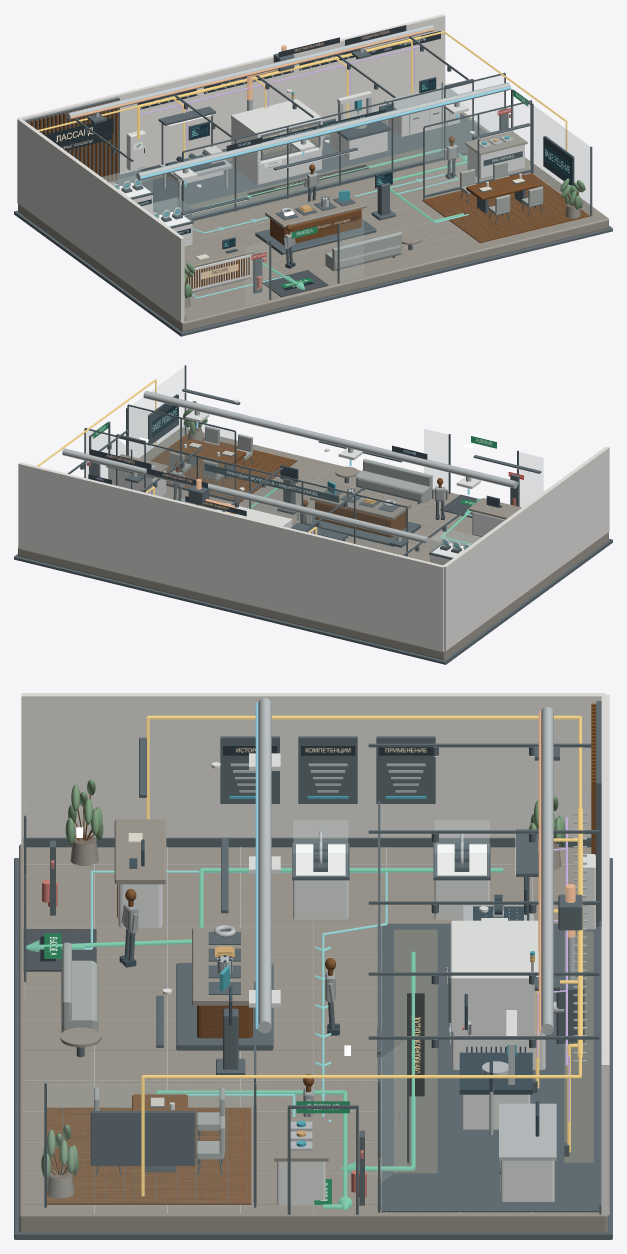
File: lassard-showroom-engineering.glb
3 renders of one model, top to bottom at view 1: azimuth 30°, elevation 25°; view 2: azimuth 150°, elevation 25°; view 3: azimuth 270°, elevation 25°, orthographic. The views are drawn at different scales.
Parts seen in each view (by area): view 1: Architecture, Floor_18x12m, Meeting_room, Ventilation, Optics_and_samples, Reception, Enclosed_laser_cell, Power_and_data, Equipment, Optical_display (×2), Sample_inspection, Assembly_station (+7 smaller); view 2: Architecture, Floor_18x12m, Meeting_room, Ventilation, Optics_and_samples, Reception, Lighting, Optical_display, Power_and_data, Safety_equipment, Reception_desk, Enclosed_laser_cell (+2 smaller); view 3: Architecture, Floor_18x12m, Meeting_room, Optics_and_samples, Ventilation, Enclosed_laser_cell, Maintenance_clearance, Reception, Optical_display (×2), Power_and_data, Lighting, Equipment (+9 smaller).
Boxes of the visible parts, left/top/right/bottom form: Architecture: left=14, top=14, right=612, bottom=336; Floor_18x12m: left=18, top=112, right=608, bottom=331; Meeting_room: left=422, top=100, right=592, bottom=243; Ventilation: left=67, top=24, right=511, bottom=186; Optics_and_samples: left=255, top=131, right=527, bottom=254; Reception: left=184, top=178, right=585, bottom=308; Enclosed_laser_cell: left=231, top=92, right=335, bottom=185; Power_and_data: left=37, top=31, right=567, bottom=170; Equipment: left=137, top=31, right=459, bottom=136; Optical_display (×2): left=102, top=168, right=193, bottom=246; Sample_inspection: left=330, top=91, right=393, bottom=160; Assembly_station: left=158, top=106, right=232, bottom=199; Architecture: left=14, top=428, right=612, bottom=664; Floor_18x12m: left=18, top=427, right=608, bottom=660; Meeting_room: left=126, top=365, right=297, bottom=503; Ventilation: left=62, top=391, right=518, bottom=547; Optics_and_samples: left=106, top=454, right=420, bottom=546; Reception: left=183, top=401, right=521, bottom=519; Lighting: left=67, top=388, right=541, bottom=555; Optical_display: left=429, top=529, right=481, bottom=565; Power_and_data: left=36, top=379, right=317, bottom=534; Safety_equipment: left=86, top=421, right=523, bottom=506; Reception_desk: left=472, top=511, right=505, bottom=537; Enclosed_laser_cell: left=217, top=503, right=292, bottom=527; Architecture: left=14, top=693, right=612, bottom=1239; Floor_18x12m: left=19, top=844, right=607, bottom=1232; Meeting_room: left=44, top=981, right=256, bottom=1207; Optics_and_samples: left=176, top=925, right=328, bottom=1205; Ventilation: left=249, top=698, right=582, bottom=1034; Enclosed_laser_cell: left=446, top=920, right=584, bottom=1069; Maintenance_clearance: left=394, top=930, right=592, bottom=1172; Reception: left=41, top=779, right=565, bottom=1198; Optical_display (×2): left=292, top=820, right=490, bottom=919; Power_and_data: left=141, top=715, right=595, bottom=1196; Lighting: left=139, top=737, right=599, bottom=1048; Equipment: left=499, top=1101, right=556, bottom=1201.
Bounding box in the file's own units: 18.3 × 4.59 × 12.3.
66 materials, 39 textured.
